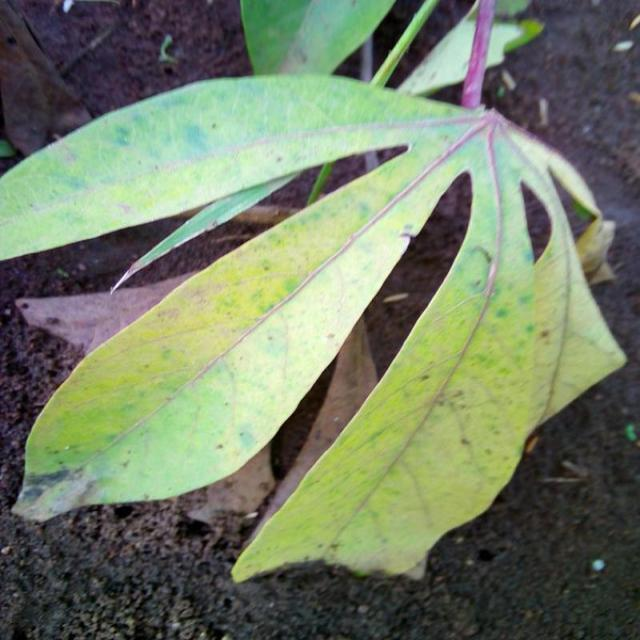cassava leaf: (2, 0, 628, 585)
